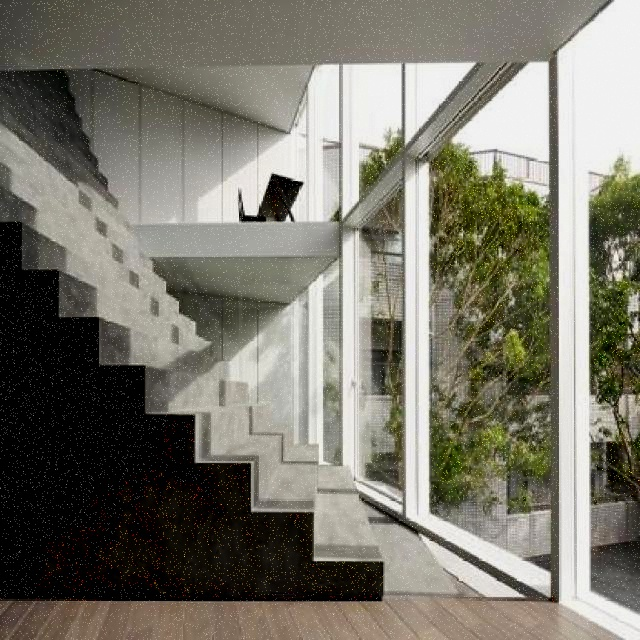stair: (0, 72, 471, 605)
